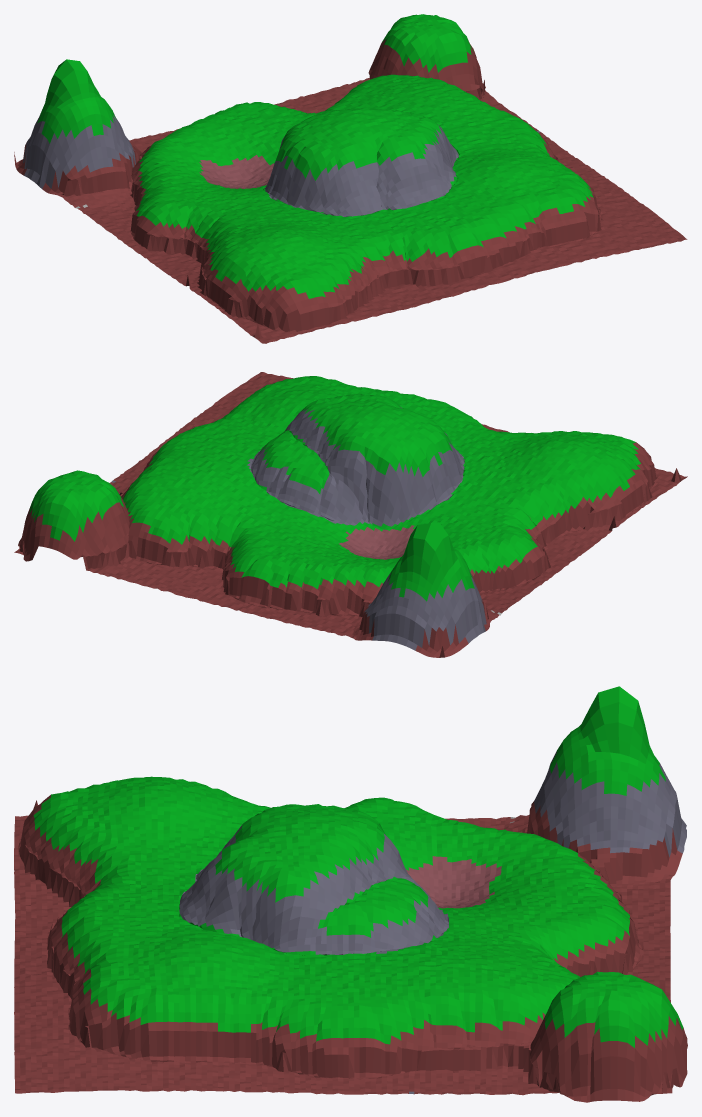
The model's file is island3.fbx.
The picture shows the model from 3 angles, top to bottom: view 1: azimuth 30°, elevation 25°; view 2: azimuth 150°, elevation 25°; view 3: azimuth 270°, elevation 25°; orthographic projection. The views are drawn at different scales.
Visible parts, largest first — view 1: pPlane1; view 2: pPlane1; view 3: pPlane1.
Boxes of the visible parts, x1,y1,x2,y2 form: pPlane1: (14,14,687,343); pPlane1: (14,372,687,657); pPlane1: (14,686,687,1102).
Bounding box in the file's own units: 31.55 × 7.93 × 30.84.
